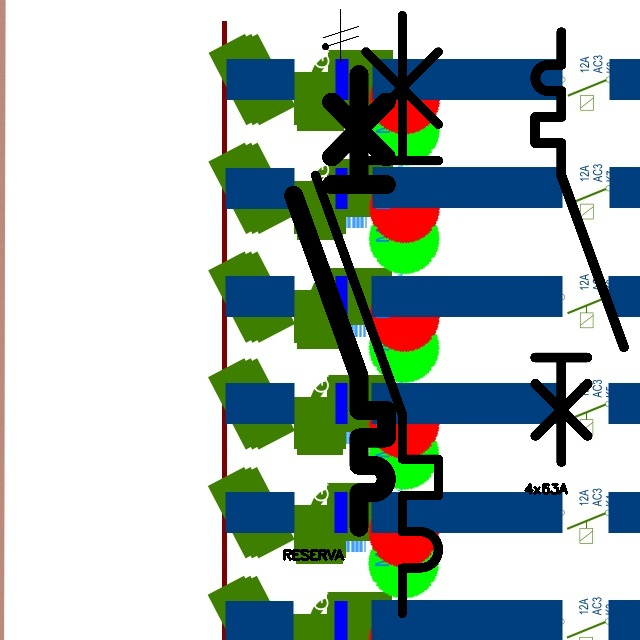interruptor_termomagnetico: (300, 0, 454, 629), (282, 62, 398, 538), (524, 21, 634, 473)
